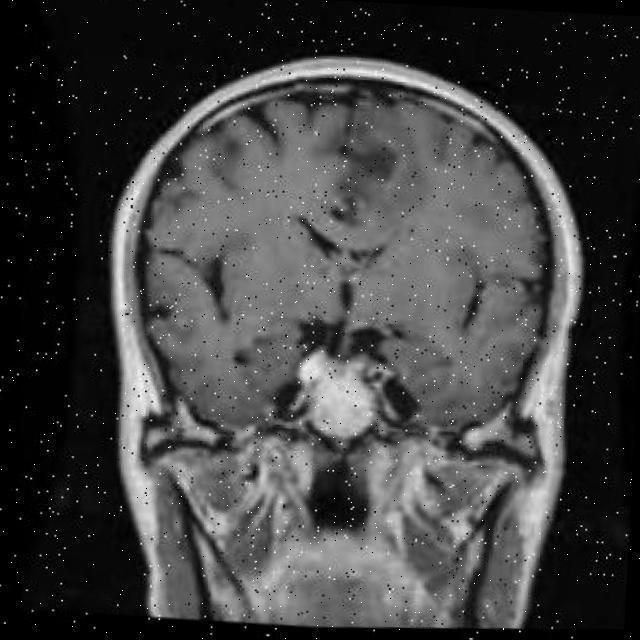MCI: (340, 141, 436, 230)
